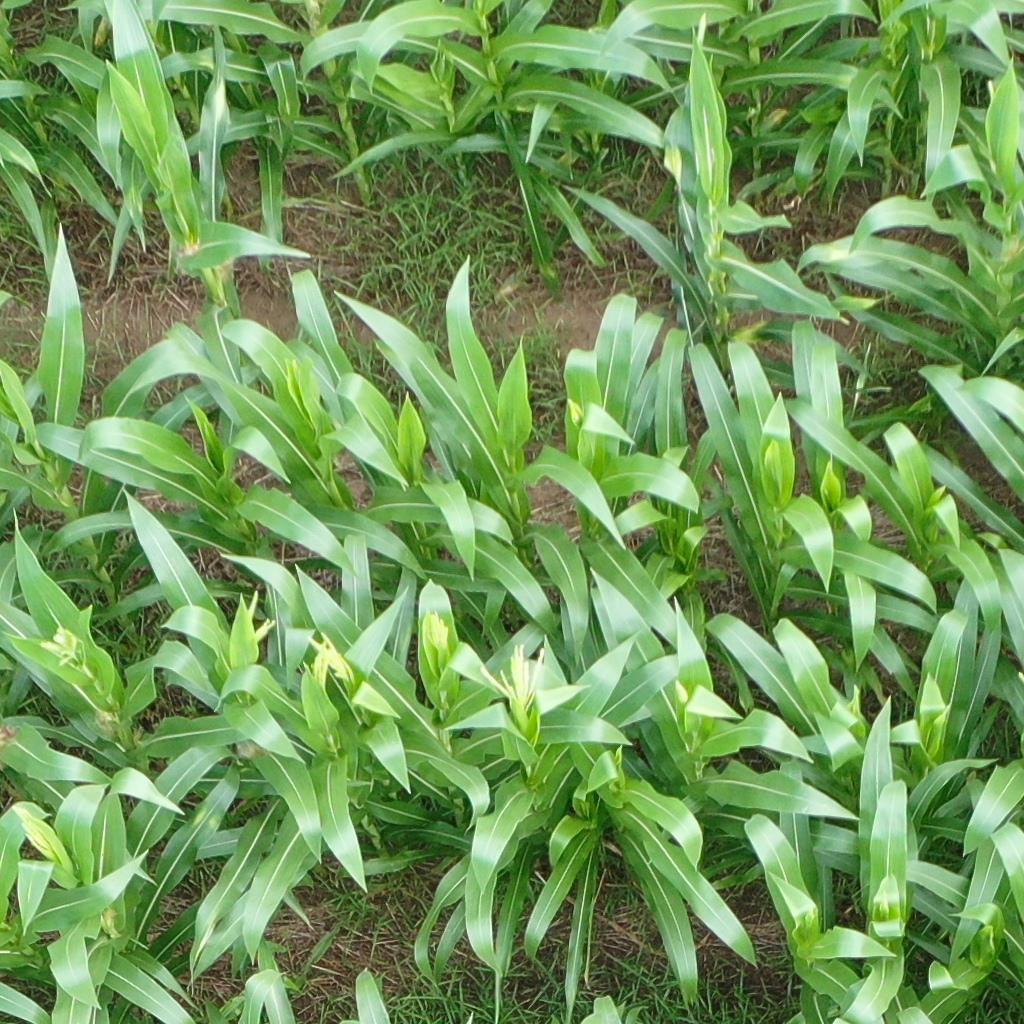Tassel: (474, 639, 551, 716), (308, 630, 360, 685), (13, 804, 54, 858), (40, 624, 85, 672), (240, 593, 277, 645), (421, 605, 451, 650), (296, 652, 328, 692)
